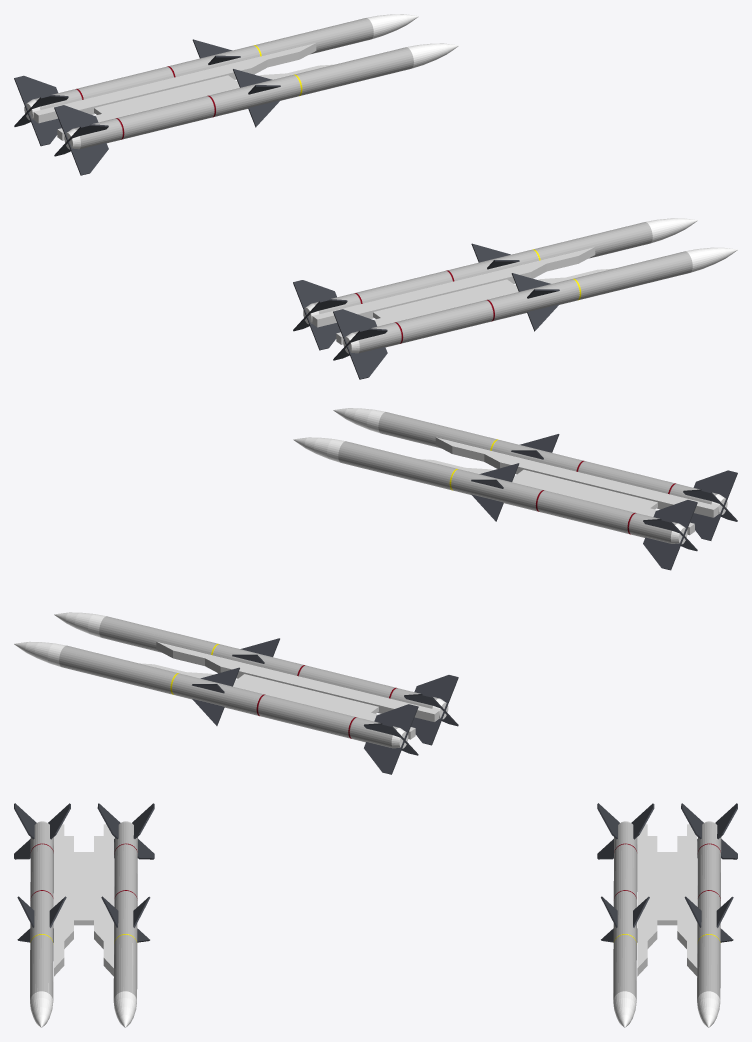
File: aim120fa18e47.glb
3 views of the same model, one above another, from view 1: azimuth 30°, elevation 25°; view 2: azimuth 150°, elevation 25°; view 3: azimuth 270°, elevation 25° (orthographic). The views are drawn at different scales.
Parts seen in each view (by area): view 1: 円柱.003, 円柱.009, 円柱.002, 円柱.008, 立方体.009, 立方体.010; view 2: 円柱.008, 円柱.002, 円柱.003, 円柱.009, 立方体.009, 立方体.010; view 3: 立方体.009, 立方体.010, 円柱.003, 円柱.002, 円柱.008, 円柱.009.
Part boxes in pixels (bbox=[...]): 円柱.003: bbox=[54, 43, 458, 175]; 円柱.009: bbox=[333, 247, 737, 379]; 円柱.002: bbox=[14, 14, 418, 146]; 円柱.008: bbox=[293, 218, 697, 350]; 立方体.009: bbox=[33, 43, 333, 140]; 立方体.010: bbox=[312, 247, 612, 344]; 円柱.008: bbox=[293, 437, 697, 570]; 円柱.002: bbox=[14, 641, 418, 774]; 円柱.003: bbox=[54, 612, 458, 745]; 円柱.009: bbox=[333, 408, 737, 540]; 立方体.009: bbox=[139, 641, 439, 739]; 立方体.010: bbox=[419, 437, 718, 535]; 立方体.009: bbox=[637, 824, 697, 976]; 立方体.010: bbox=[54, 824, 113, 976]; 円柱.003: bbox=[597, 803, 654, 1027]; 円柱.002: bbox=[681, 803, 737, 1027]; 円柱.008: bbox=[97, 803, 154, 1027]; 円柱.009: bbox=[14, 803, 70, 1027].
Bounding box in the file's own units: 4.39 × 0.5295 × 6.73.
Materials: 4 (4 with a texture image).
